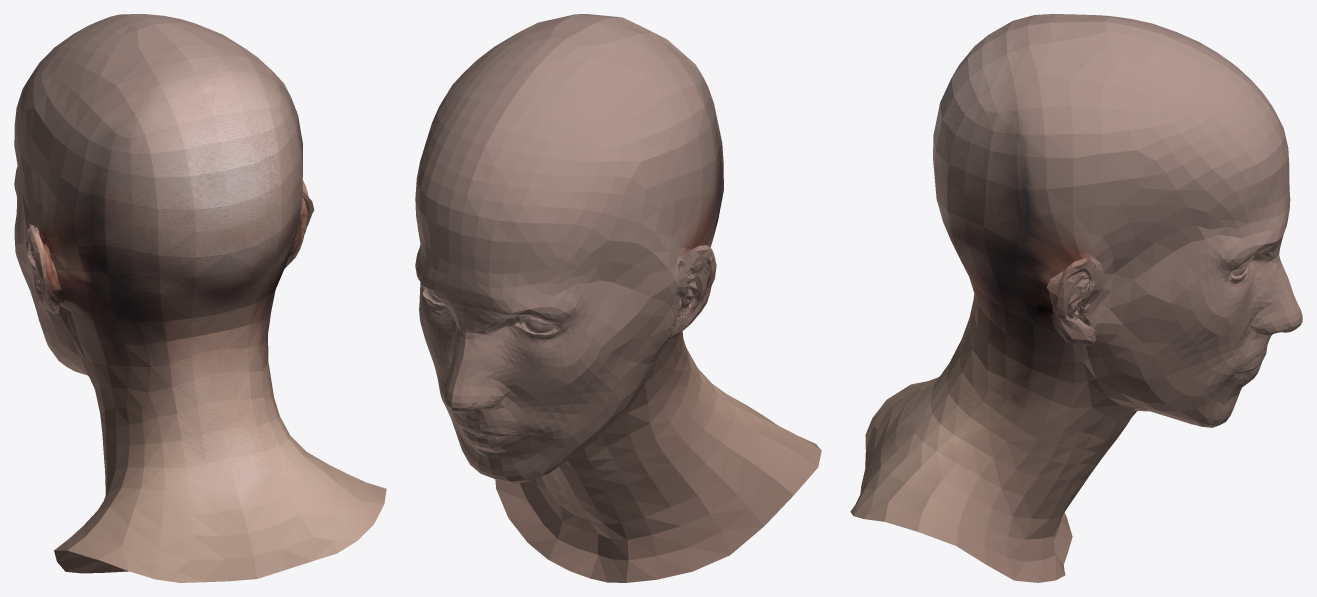
The model's file is bald_back.obj.
3 views of the same model, side by side, from view 1: azimuth 30°, elevation 25°; view 2: azimuth 150°, elevation 25°; view 3: azimuth 270°, elevation 25° (orthographic). The views are drawn at different scales.
Size of the model in its own units: 0.1975 by 0.3297 by 0.2481.
1 material, 1 textured.
